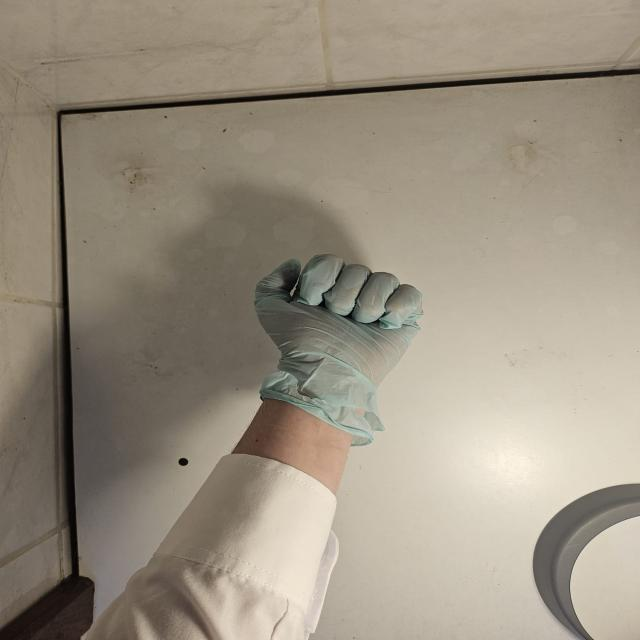gloves_damaged: (256, 250, 428, 448)
